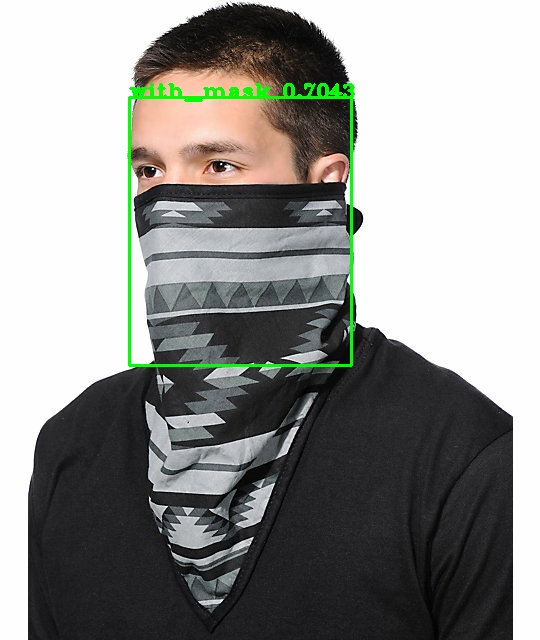with_mask: (116, 65, 363, 311)
